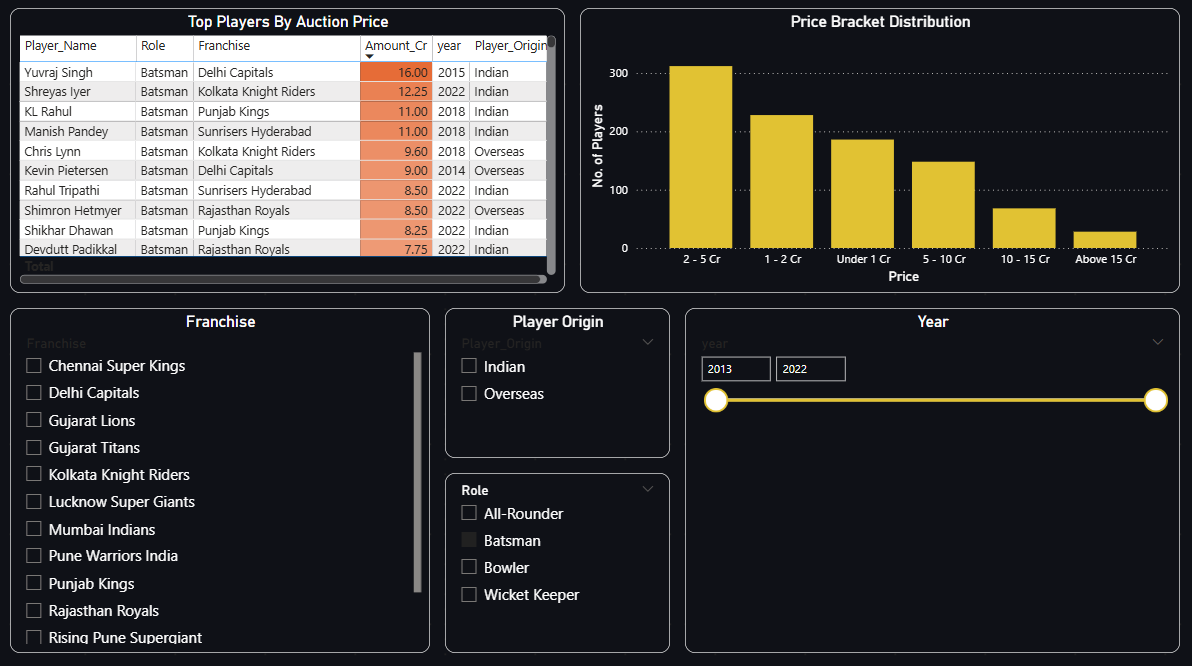

Layout of this report page (visuals, bound fields, positions):
{"tool":"powerbi","page":{"name":"Overview2","canvas":[1280,720],"ordinal":1},"visuals":[{"type":"clusteredColumnChart","title":"Price Bracket Distribution","fields":{"Category":["Table.Column1"],"Y":["Sum(Table.Column2)"]},"box":[624,16,640,304],"z":0},{"type":"slicer","title":"Year","fields":{"Values":["ipl ipl_ac.year"]},"box":[736,336,528,368],"z":1000},{"type":"slicer","fields":{"Values":["ipl ipl_ac.Role"]},"box":[480,512,240,192],"z":2000},{"type":"slicer","title":"Player Origin","fields":{"Values":["ipl ipl_ac.Player_Origin"]},"box":[480,336,240,160],"z":3000},{"type":"slicer","title":"Franchise","fields":{"Values":["ipl ipl_ac.Franchise"]},"box":[16,336,448,368],"z":4000},{"type":"tableEx","title":"Top Players By Auction Price","fields":{"Values":["ipl ipl_ac.Player_Name","ipl ipl_ac.Role","ipl ipl_ac.Franchise","ipl ipl_ac.Amount_Cr","ipl ipl_ac.year","ipl ipl_ac.Player_Origin"]},"box":[16,16,592,304],"z":5000}]}

Visuals, with their boxes in screenshot pixels (x1, y1, x2, y2), scaled from the page's 1280x720 canvas onto the 1192x666 screenshot:
"Price Bracket Distribution" clusteredColumnChart: Rect(581, 15, 1177, 296)
"Year" slicer: Rect(685, 311, 1177, 651)
slicer - ipl ipl_ac.Role: Rect(447, 474, 670, 651)
"Player Origin" slicer: Rect(447, 311, 670, 459)
"Franchise" slicer: Rect(15, 311, 432, 651)
"Top Players By Auction Price" tableEx: Rect(15, 15, 566, 296)
